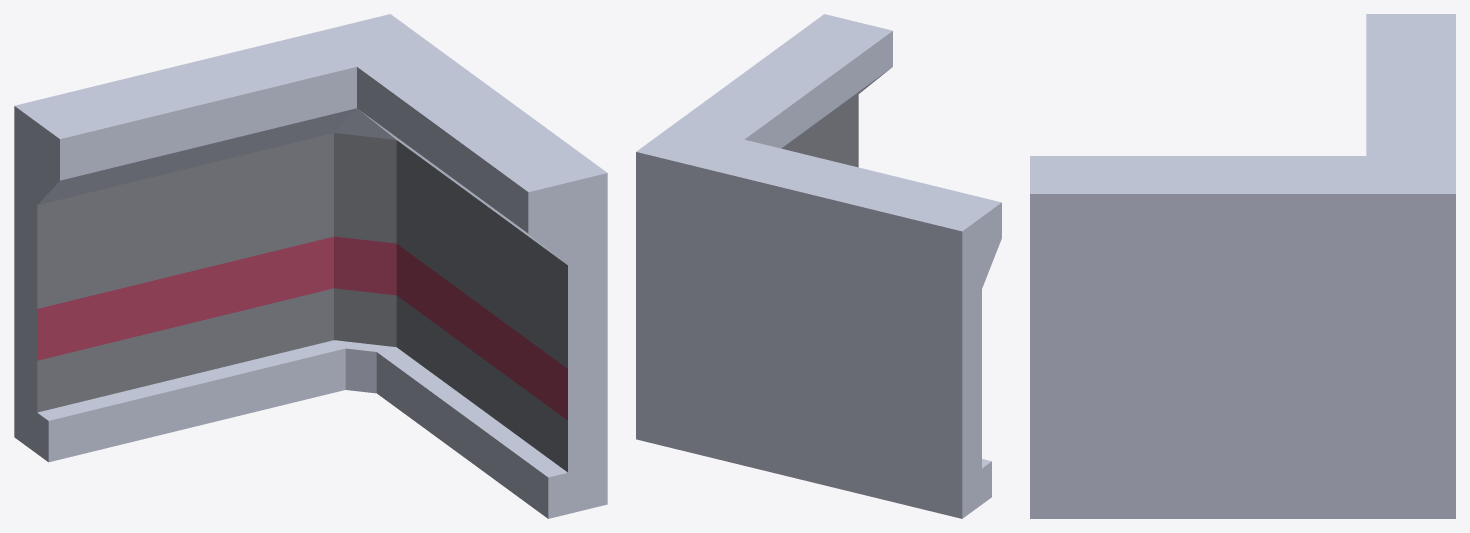
3 views of the same model, side by side, from view 1: azimuth 30°, elevation 25°; view 2: azimuth 150°, elevation 25°; view 3: azimuth 270°, elevation 25° (orthographic). The views are drawn at different scales.
Visible parts, largest first — view 1: object_009; view 2: object_009; view 3: object_009.
Boxes of the visible parts, x1=… form: object_009: x1=14, y1=14, x2=607, y2=518; object_009: x1=636, y1=14, x2=1001, y2=518; object_009: x1=1030, y1=14, x2=1455, y2=518.
Bounding box in the file's own units: 1.19 × 1 × 1.19.
